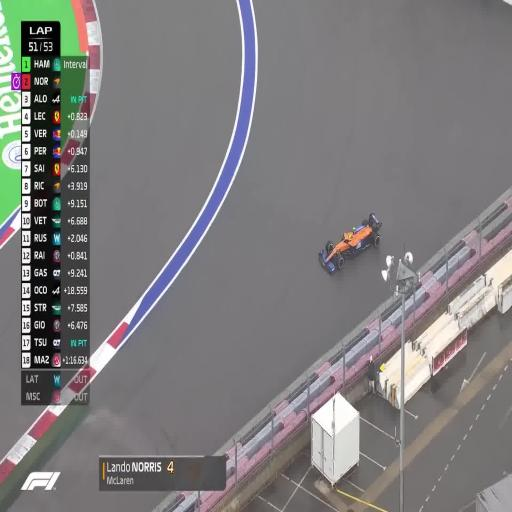f1_car: (319, 212, 381, 273)
